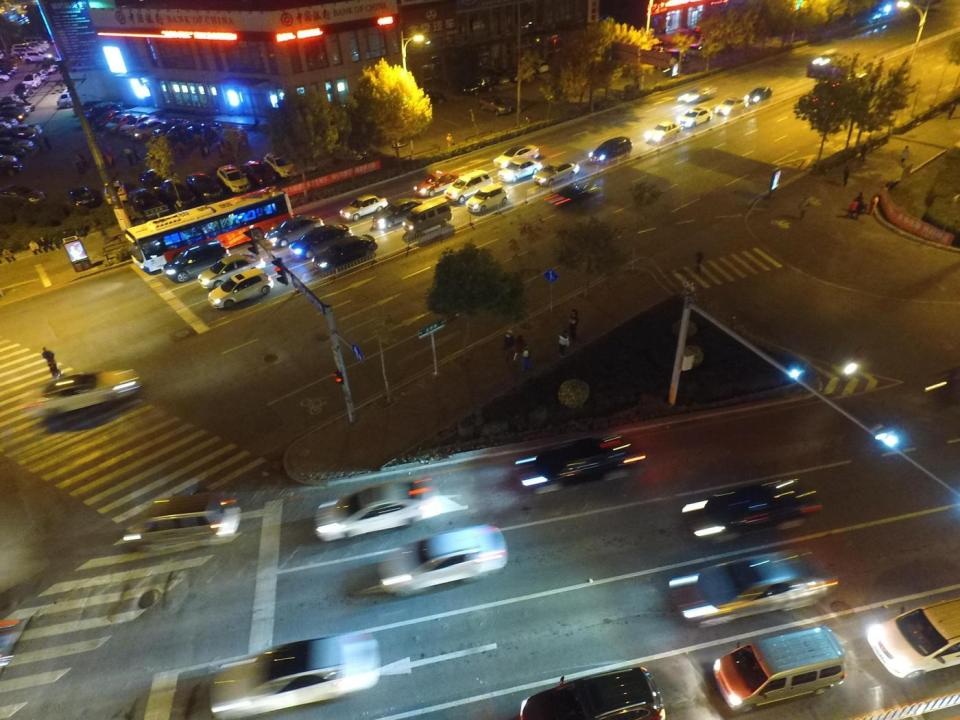bus: (119, 187, 299, 272)
car: (208, 626, 384, 719), (657, 552, 845, 625), (369, 522, 512, 612), (711, 625, 852, 711), (868, 584, 960, 679), (519, 661, 663, 720), (682, 481, 825, 537), (512, 434, 645, 493), (22, 361, 145, 423), (309, 483, 440, 539), (121, 494, 240, 552), (156, 242, 239, 282), (206, 266, 274, 308), (311, 233, 380, 274), (198, 253, 270, 289), (288, 227, 356, 262), (263, 215, 328, 247), (441, 171, 494, 203), (337, 190, 394, 219), (370, 196, 420, 228), (551, 182, 610, 207), (800, 52, 852, 80), (161, 175, 200, 212), (466, 184, 512, 212), (241, 158, 282, 189), (532, 161, 584, 185), (2, 180, 46, 208), (214, 162, 252, 193), (495, 155, 542, 180), (129, 187, 164, 219), (414, 171, 460, 195), (265, 148, 302, 176), (679, 82, 721, 106), (139, 167, 174, 194), (187, 173, 224, 198), (645, 121, 685, 144), (678, 106, 715, 130), (460, 75, 499, 97), (494, 147, 538, 166), (479, 92, 513, 116), (713, 94, 750, 116), (334, 136, 367, 160), (742, 82, 773, 107), (102, 178, 131, 204), (190, 121, 228, 140), (69, 187, 98, 209), (1, 133, 33, 152), (134, 119, 164, 139), (91, 109, 125, 126), (121, 116, 159, 131), (417, 88, 450, 105), (86, 102, 122, 117), (0, 141, 29, 159), (505, 65, 535, 82), (152, 119, 188, 133), (0, 156, 24, 176), (12, 122, 44, 137), (384, 130, 408, 150), (104, 112, 133, 128), (56, 92, 84, 108), (167, 121, 201, 134), (1, 103, 34, 116), (77, 98, 104, 113), (488, 66, 510, 84), (1, 129, 36, 140), (19, 51, 54, 62), (14, 82, 33, 100), (0, 109, 25, 122), (23, 72, 42, 89), (0, 115, 19, 126), (38, 68, 58, 74)
van: (404, 202, 453, 233), (586, 135, 634, 164), (530, 56, 550, 74), (14, 42, 46, 53), (16, 39, 50, 49), (23, 34, 50, 44), (11, 47, 40, 56)
